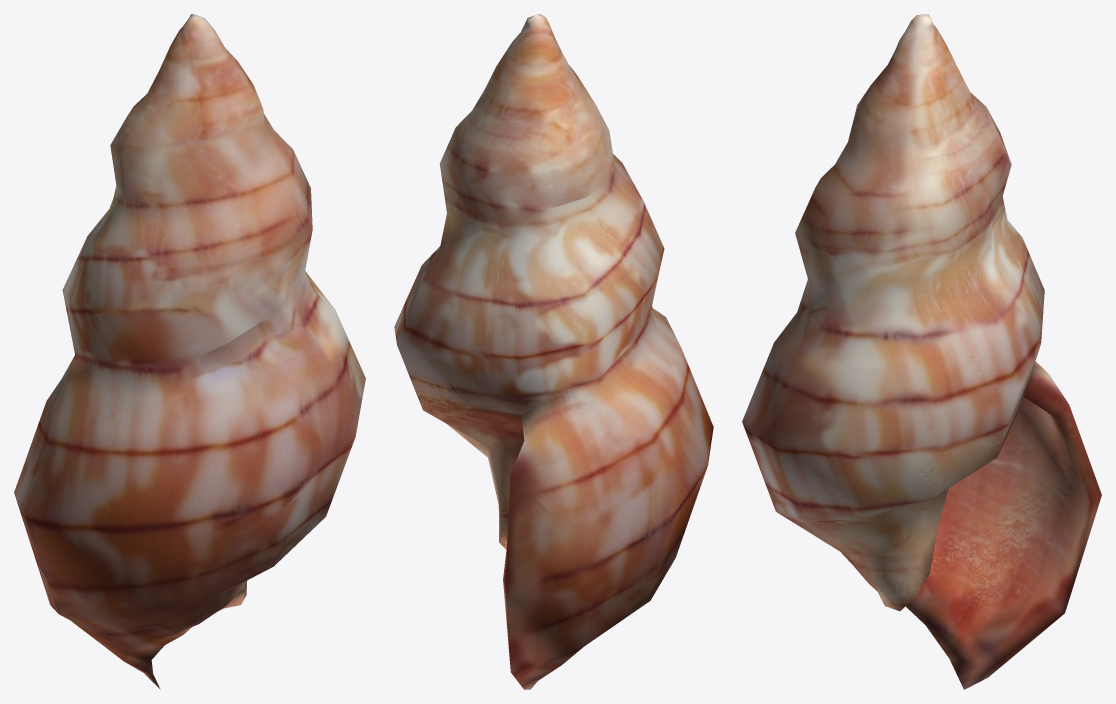
File: cage_conch.glb
The picture shows the model from 3 angles, left to right: view 1: azimuth 30°, elevation 25°; view 2: azimuth 150°, elevation 25°; view 3: azimuth 270°, elevation 25°; orthographic projection. The views are drawn at different scales.
Parts seen in each view (by area): view 1: cage_conch; view 2: cage_conch; view 3: cage_conch.
Boxes of the visible parts, <box> form: cage_conch: <box>14,14,365,689</box>; cage_conch: <box>394,14,713,689</box>; cage_conch: <box>742,14,1101,689</box>.
Size of the model in its own units: 2.93 by 6.5 by 3.11.
1 material, 1 textured.
